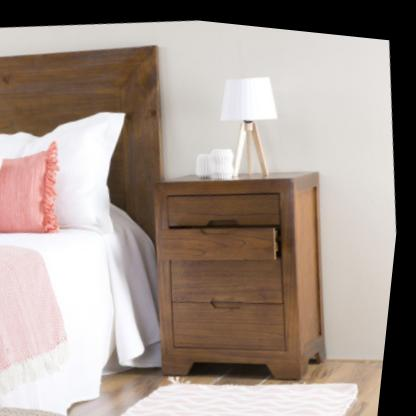Lamp: (200, 56, 298, 184)
Nightstand: (132, 139, 360, 395)
